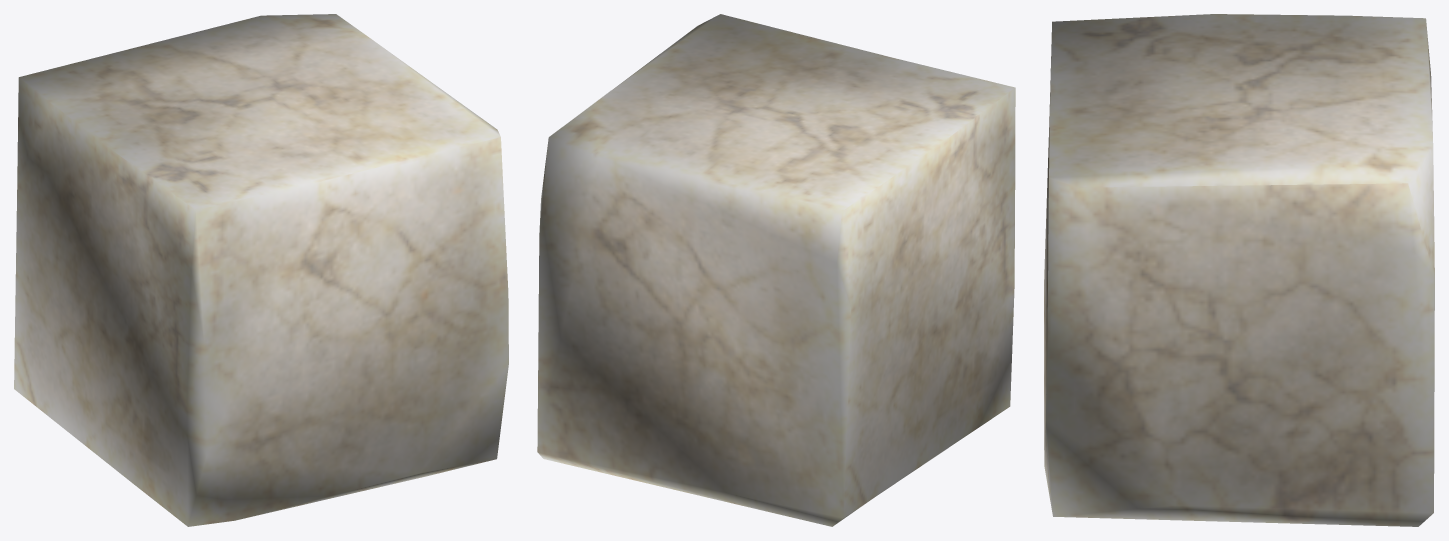
File: SM_StoneRefined_4.fbx
The picture shows the model from 3 angles, left to right: view 1: azimuth 30°, elevation 25°; view 2: azimuth 150°, elevation 25°; view 3: azimuth 270°, elevation 25°; orthographic projection. The views are drawn at different scales.
Visible parts, largest first — view 1: SM_StoneRefined_4_; view 2: SM_StoneRefined_4_; view 3: SM_StoneRefined_4_.
Part boxes in pixels (bbox=[...]): SM_StoneRefined_4_: bbox=[14, 14, 508, 526]; SM_StoneRefined_4_: bbox=[537, 14, 1015, 526]; SM_StoneRefined_4_: bbox=[1044, 14, 1434, 526].
Bounding box in the file's own units: 0.2603 × 0.2613 × 0.2614.
